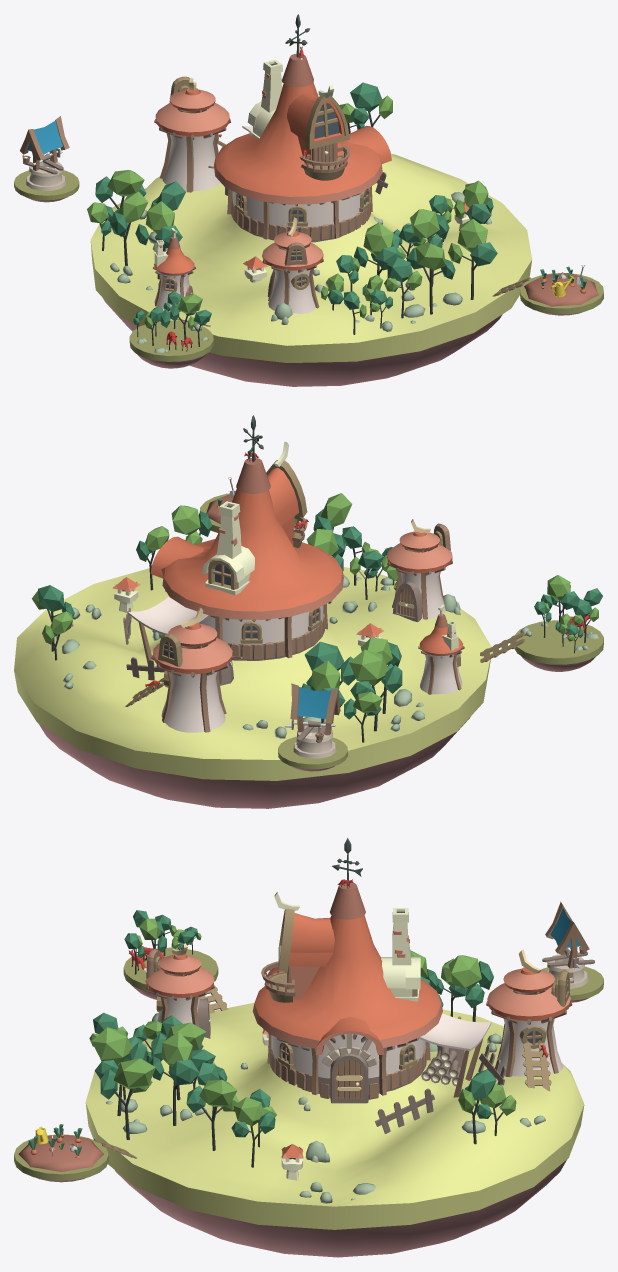
The model's file is Islands2.glb.
3 views of the same model, one above another, from view 1: azimuth 30°, elevation 25°; view 2: azimuth 150°, elevation 25°; view 3: azimuth 270°, elevation 25° (orthographic). The views are drawn at different scales.
Parts seen in each view (by area): view 1: Main Island, Main House, Trees, House 2, Fox Island, House 3, Well House, Carrots Island, House 4, Stones; view 2: Main Island, Main House, Trees, House 2, Fox Island, House 3, Well House, House 4, Stones, Carrots Island, Monument 1; view 3: Main Island, Main House, Trees, House 2, Carrots Island, House 3, Fox Island, Well House, Stones, Monument 1.
Boxes of the visible parts, box(x1,y1,x2,y2) form: Main Island: box(90, 154, 532, 386); Main House: box(208, 14, 391, 242); Trees: box(87, 82, 497, 334); House 2: box(154, 76, 231, 192); Fox Island: box(129, 291, 213, 368); House 3: box(262, 217, 323, 313); Well House: box(14, 116, 79, 202); Carrots Island: box(492, 265, 603, 315); House 4: box(153, 228, 195, 308); Stones: box(110, 192, 491, 331); Main Island: box(14, 567, 491, 808); Main House: box(123, 415, 343, 685); Trees: box(32, 493, 402, 742); House 2: box(125, 606, 233, 732); Fox Island: box(480, 575, 603, 671); House 3: box(386, 519, 452, 621); Well House: box(278, 683, 347, 771); House 4: box(418, 604, 464, 694); Stones: box(62, 575, 460, 738); Carrots Island: box(199, 477, 235, 532); Monument 1: box(112, 577, 140, 612); Main Island: box(85, 1002, 584, 1257); Main House: box(252, 838, 506, 1133); Trees: box(89, 950, 516, 1167); House 2: box(486, 949, 572, 1091); Carrots Island: box(14, 1124, 137, 1182); House 3: box(145, 943, 214, 1038); Fox Island: box(123, 910, 227, 1013); Well House: box(541, 901, 603, 1002); Stones: box(106, 1013, 545, 1203); Monument 1: box(281, 1144, 303, 1180).
Bounding box in the file's own units: 61.59 × 44.7 × 63.83.
